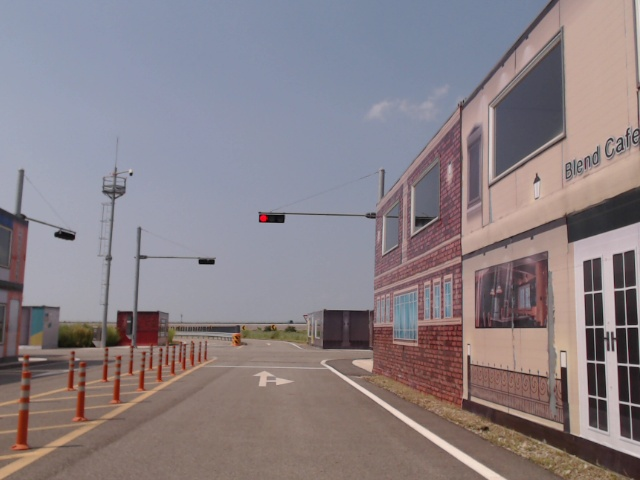red_3: (258, 214, 285, 223)
